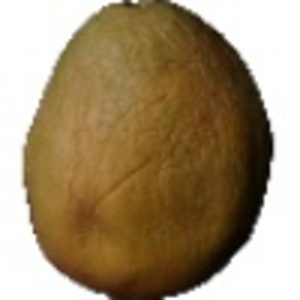mamão: (20, 3, 273, 290)
